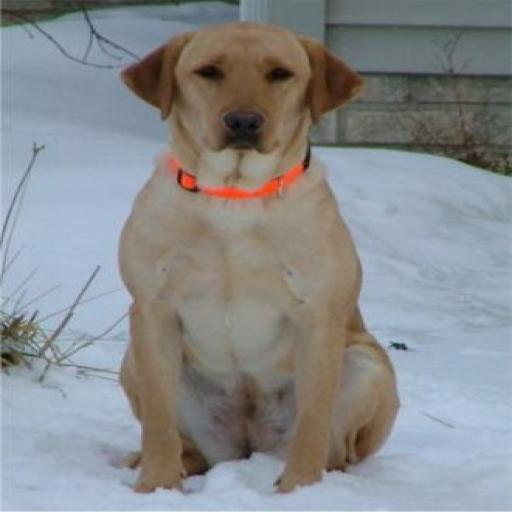dog_face: (130, 23, 359, 156)
